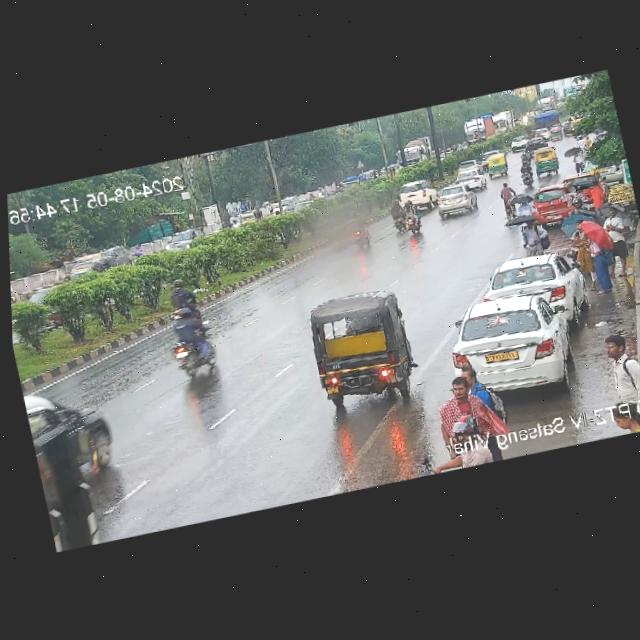car: (433, 280, 595, 404), (26, 376, 128, 552), (299, 285, 423, 409), (528, 249, 590, 323), (529, 180, 575, 227), (434, 181, 481, 221), (389, 177, 435, 212), (62, 254, 115, 284), (526, 146, 560, 177), (450, 171, 487, 194), (479, 153, 508, 178), (450, 157, 482, 175), (505, 134, 533, 152), (479, 148, 504, 160)
motorcycle: (159, 304, 223, 382), (153, 281, 201, 322), (342, 209, 380, 257), (384, 197, 424, 236), (510, 156, 536, 188), (498, 180, 520, 216), (122, 242, 148, 266)
person: (430, 361, 514, 454), (574, 209, 622, 291), (594, 326, 640, 406), (598, 204, 636, 276), (564, 133, 599, 173)
truck: (460, 106, 519, 146), (389, 134, 434, 172)
